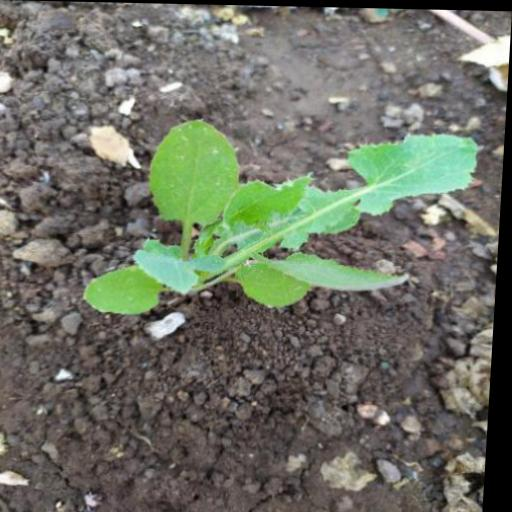weed: (73, 105, 476, 340)
